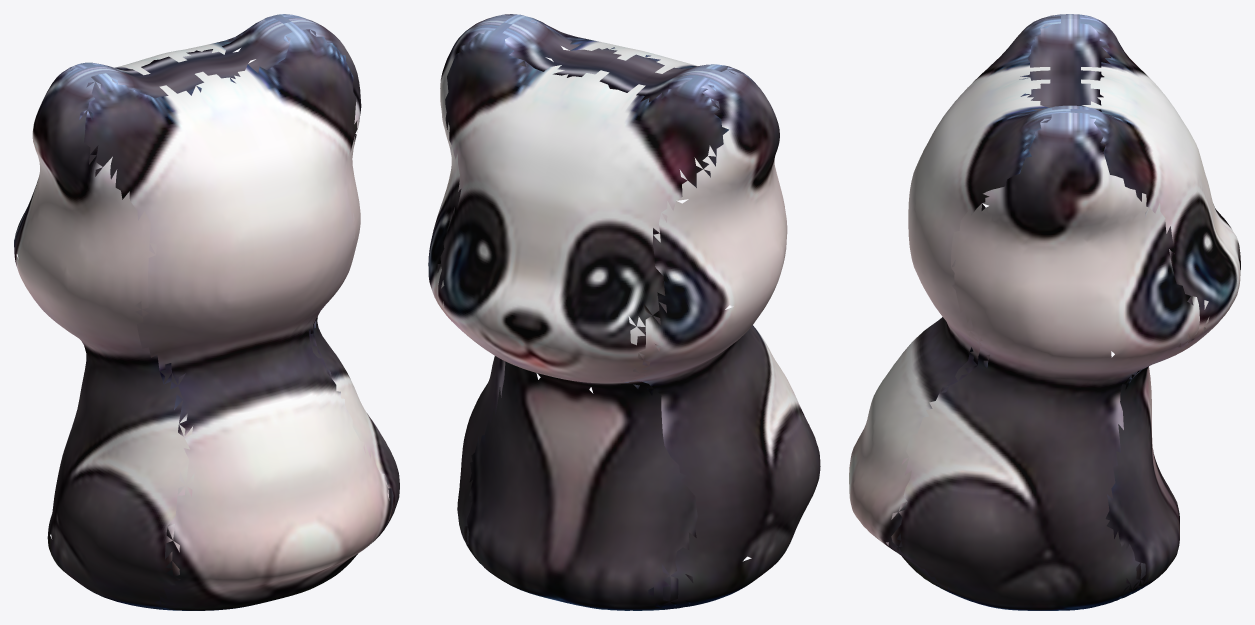
File: Panda.glb
3 views of the same model, side by side, from view 1: azimuth 30°, elevation 25°; view 2: azimuth 150°, elevation 25°; view 3: azimuth 270°, elevation 25° (orthographic). The views are drawn at different scales.
Visible parts, largest first — view 1: Panda; view 2: Panda; view 3: Panda.
Boxes of the visible parts, left/top/right/bottom form: Panda: left=14, top=14, right=399, bottom=610; Panda: left=428, top=14, right=820, bottom=610; Panda: left=849, top=14, right=1240, bottom=610.
Size of the model in its own units: 2.62 by 4.18 by 3.
Materials: 1 (1 with a texture image).
